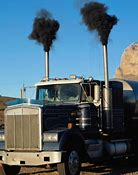smoke: (79, 1, 118, 44), (28, 8, 60, 52)
